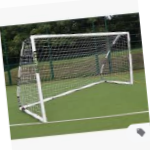goals: (13, 30, 135, 123)
